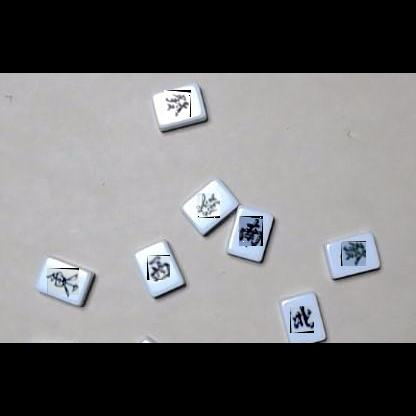1z: (47, 268, 79, 295)
2z: (239, 216, 263, 246)
3z: (147, 255, 170, 280)
4z: (290, 306, 314, 333)
6z: (164, 90, 191, 117), (341, 241, 366, 266), (196, 193, 220, 218)
